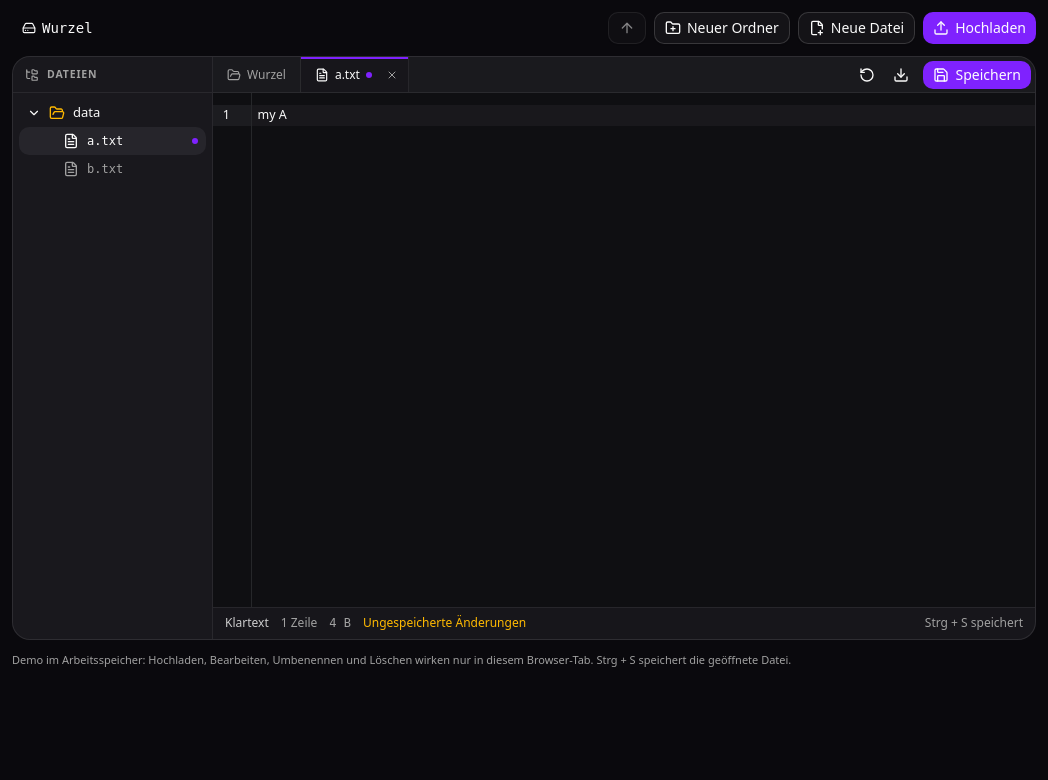
Test: serialises saves and gestures while an own save is pending
Expected: the field named "Inhalt von a.txt" is shown, [252, 105, 1035, 126]
Click the button "Speichern": point(977, 74) [924, 60, 1031, 88]
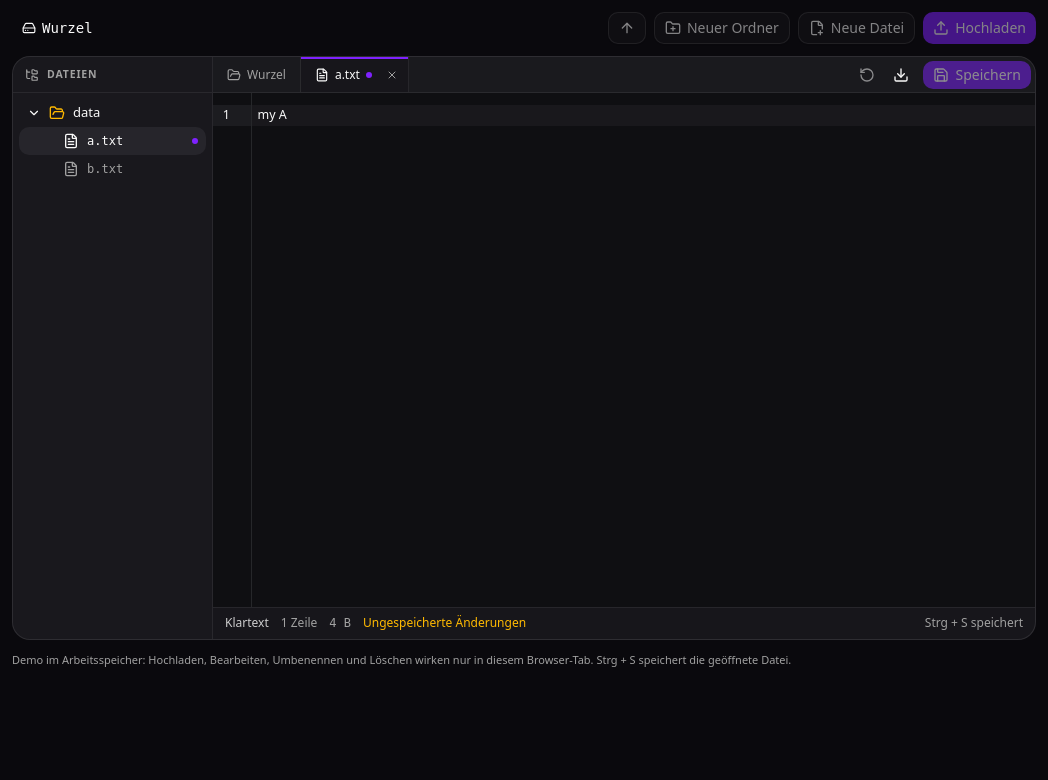
Result: the button "Neuer Ordner" is disabled at [654, 12, 790, 44]
